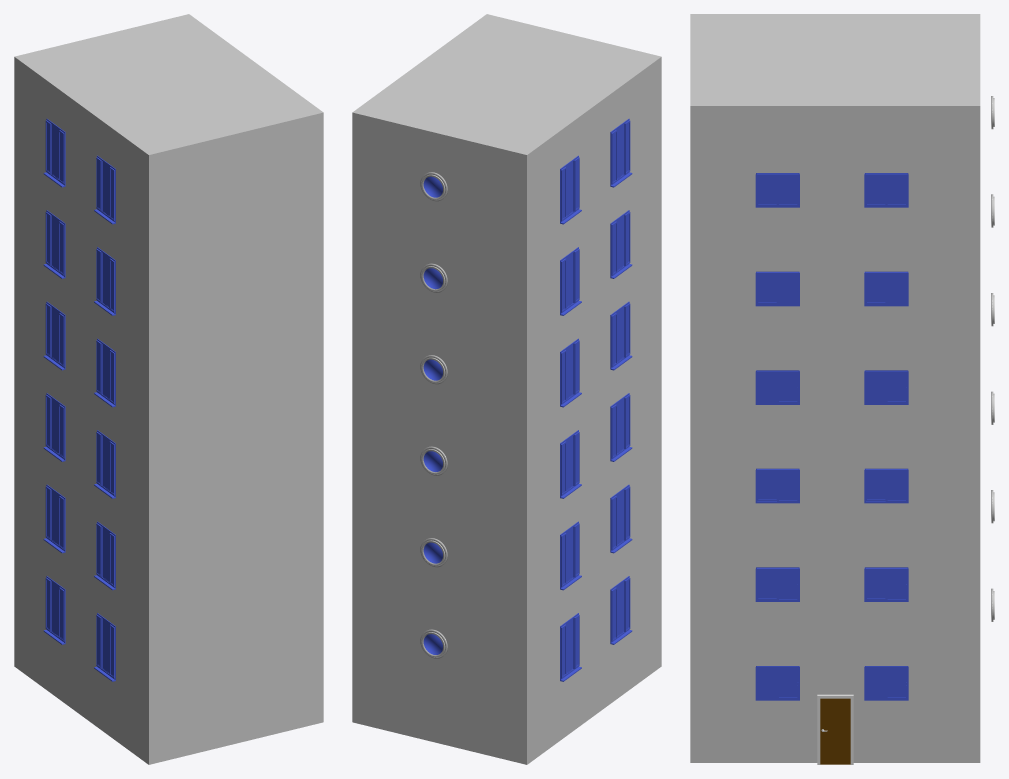
Rendered from Gebaeude.fbx.
The picture shows the model from 3 angles, left to right: view 1: azimuth 30°, elevation 25°; view 2: azimuth 150°, elevation 25°; view 3: azimuth 270°, elevation 25°; orthographic projection. The views are drawn at different scales.
Visible parts, largest first — view 1: Cube, Window.003; view 2: Cube, Window.003; view 3: Cube, Window.003, Door, DoorFrame.
Part boxes in pixels (left/top/right/bottom): Cube: left=14, top=14, right=323, bottom=764; Window.003: left=43, top=118, right=115, bottom=681; Cube: left=352, top=14, right=661, bottom=764; Window.003: left=420, top=118, right=632, bottom=681; Cube: left=690, top=14, right=980, bottom=762; Window.003: left=755, top=96, right=994, bottom=700; Door: left=820, top=698, right=850, bottom=764; DoorFrame: left=817, top=694, right=853, bottom=764.
Bounding box in the file's own units: 631 × 2000 × 839.
